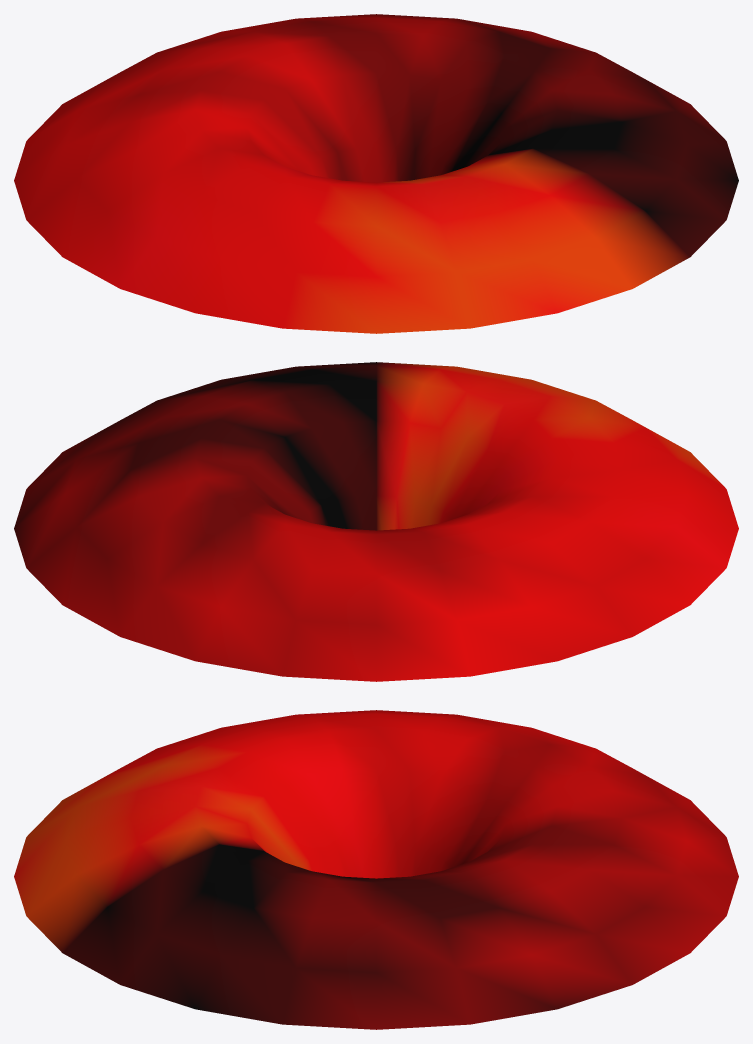
Rendered from sertz__uni_hole.glb.
The picture shows the model from 3 angles, top to bottom: view 1: azimuth 30°, elevation 25°; view 2: azimuth 150°, elevation 25°; view 3: azimuth 270°, elevation 25°; orthographic projection.
Parts seen in each view (by area): view 1: uni_hole; view 2: uni_hole; view 3: uni_hole.
Boxes of the visible parts, x1,y1,x2,y2 form: uni_hole: (14, 14, 738, 333); uni_hole: (14, 362, 738, 681); uni_hole: (14, 710, 738, 1029).
Size of the model in its own units: 224 by 48 by 224.
